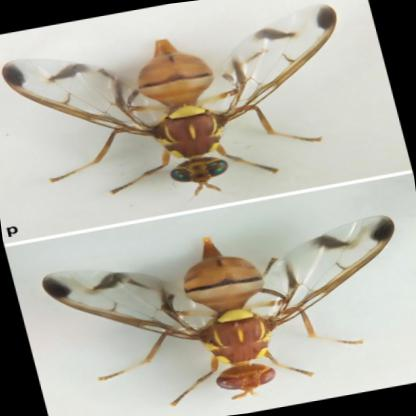fruit fly: (38, 216, 390, 404), (1, 3, 338, 196)
